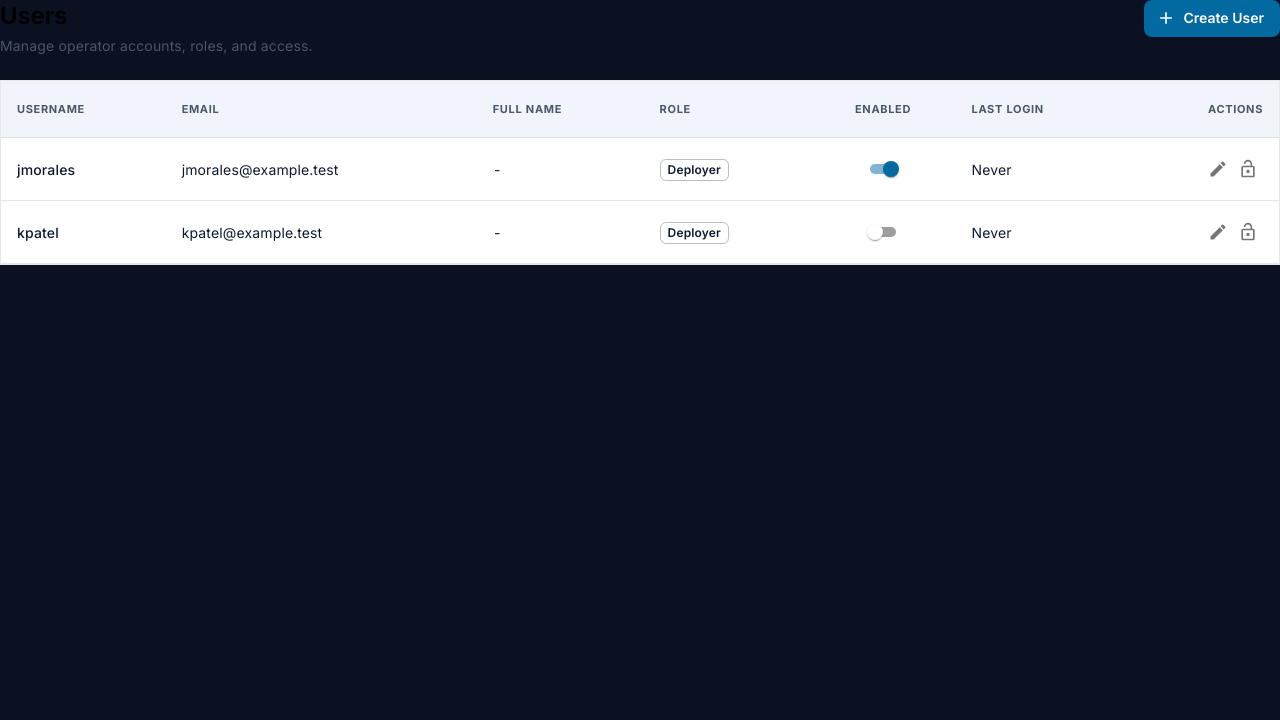
UsersPage enabled switch › asks before disabling and names the user
Click the switch named "Disable jmorales": click(891, 169) [883,161,899,177]
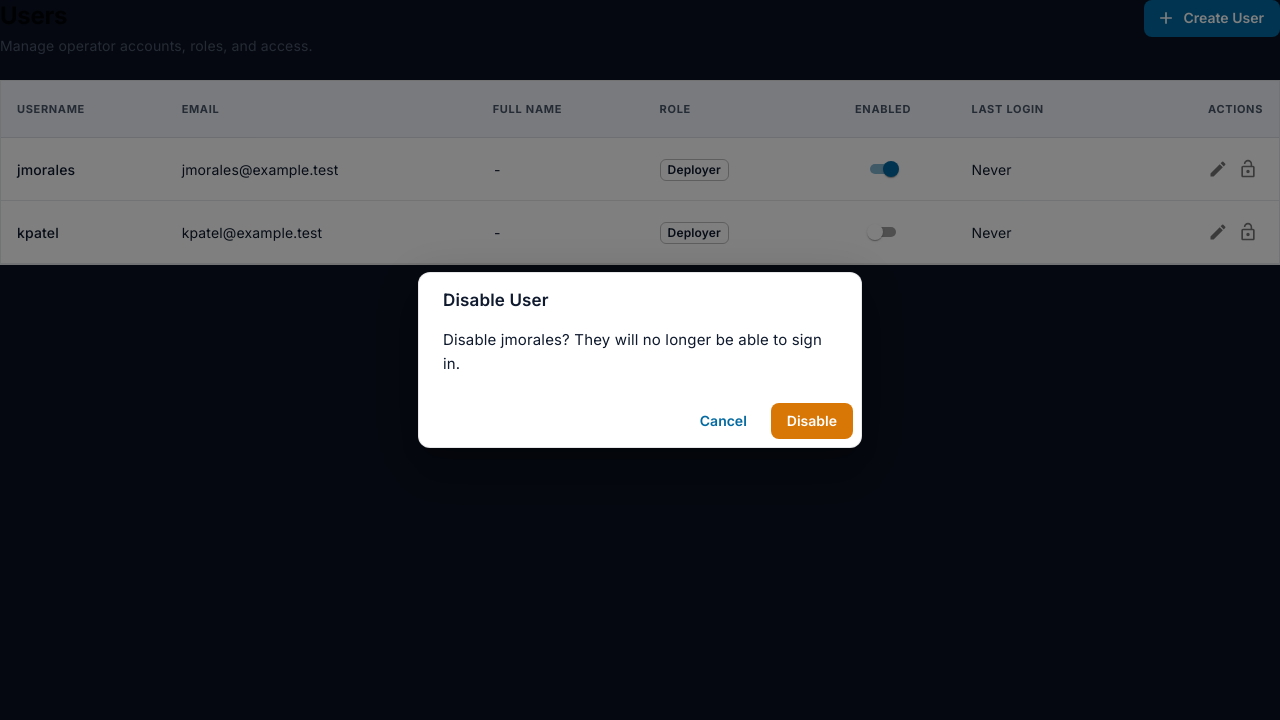
expect the text "Disable jmorales? They will no longer be able to sign in." is shown: met, box [443,328,837,375]
